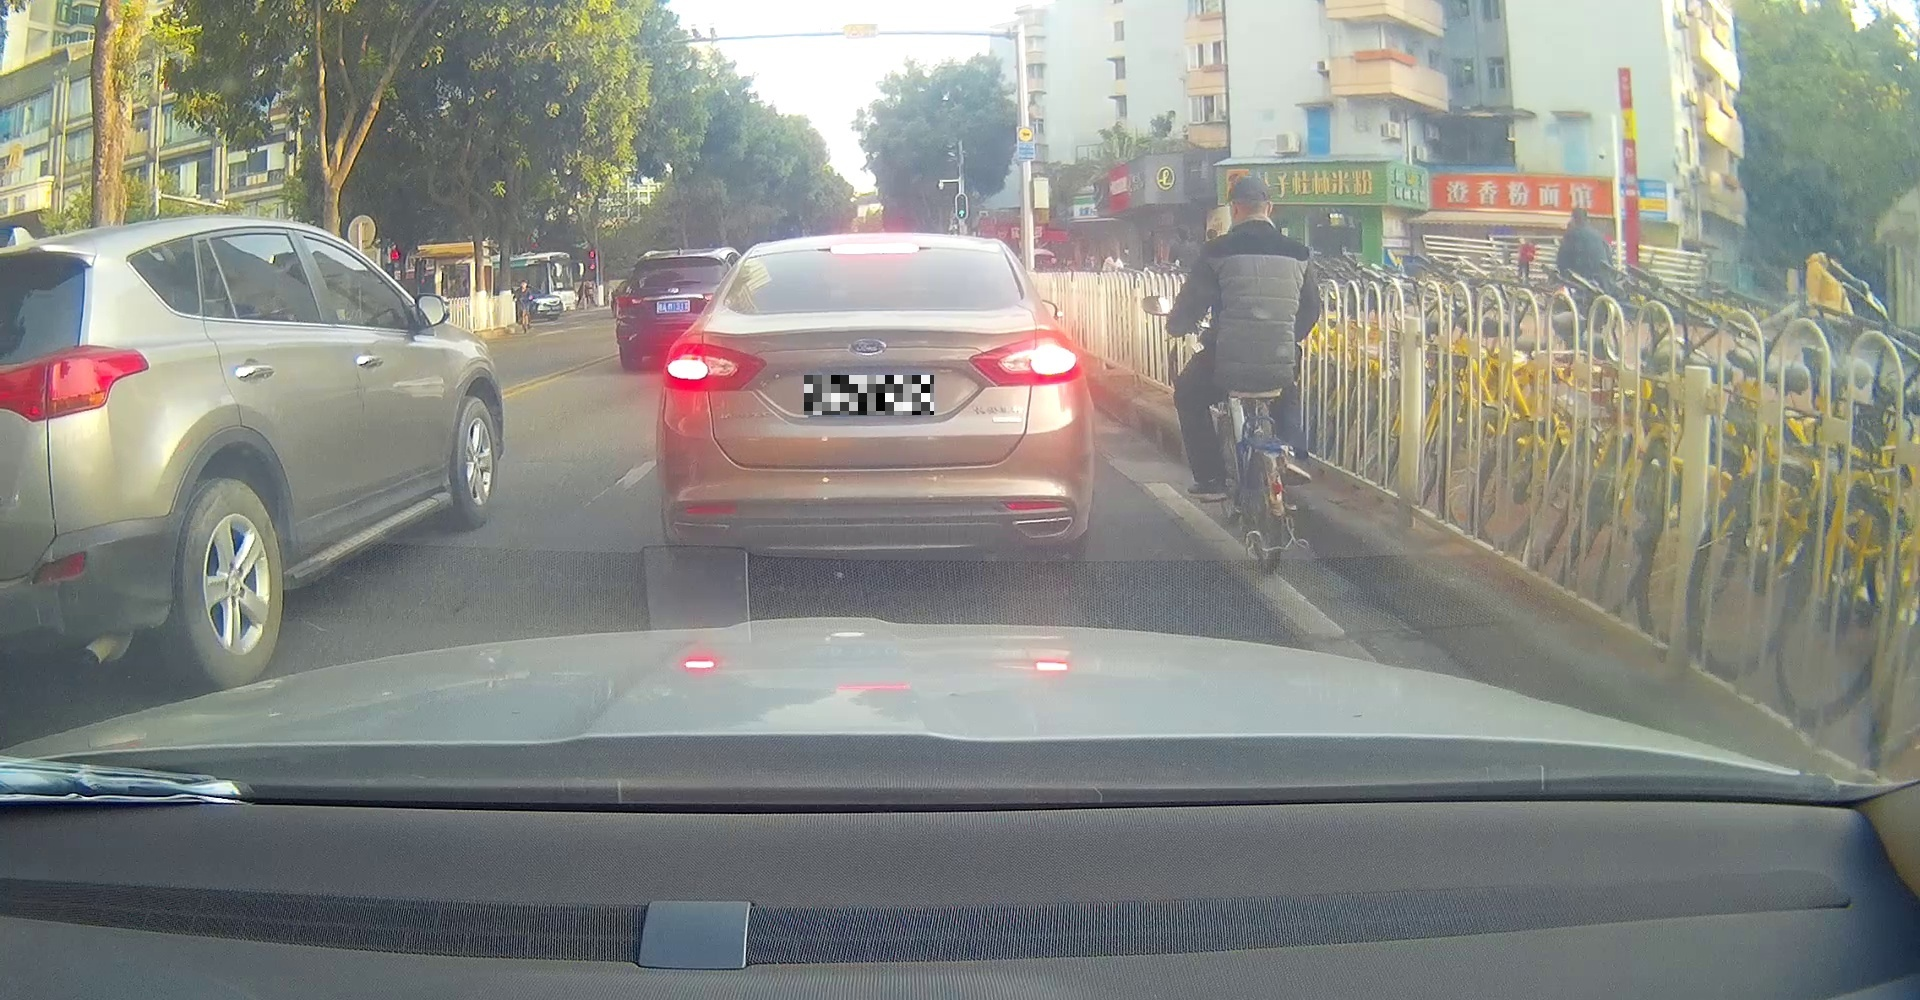L_light: (662, 341, 768, 391)
R_light: (968, 332, 1086, 386)
T_light: (829, 244, 921, 254)
day-brake: (658, 231, 1097, 561)
plate_1: (804, 376, 935, 415)
